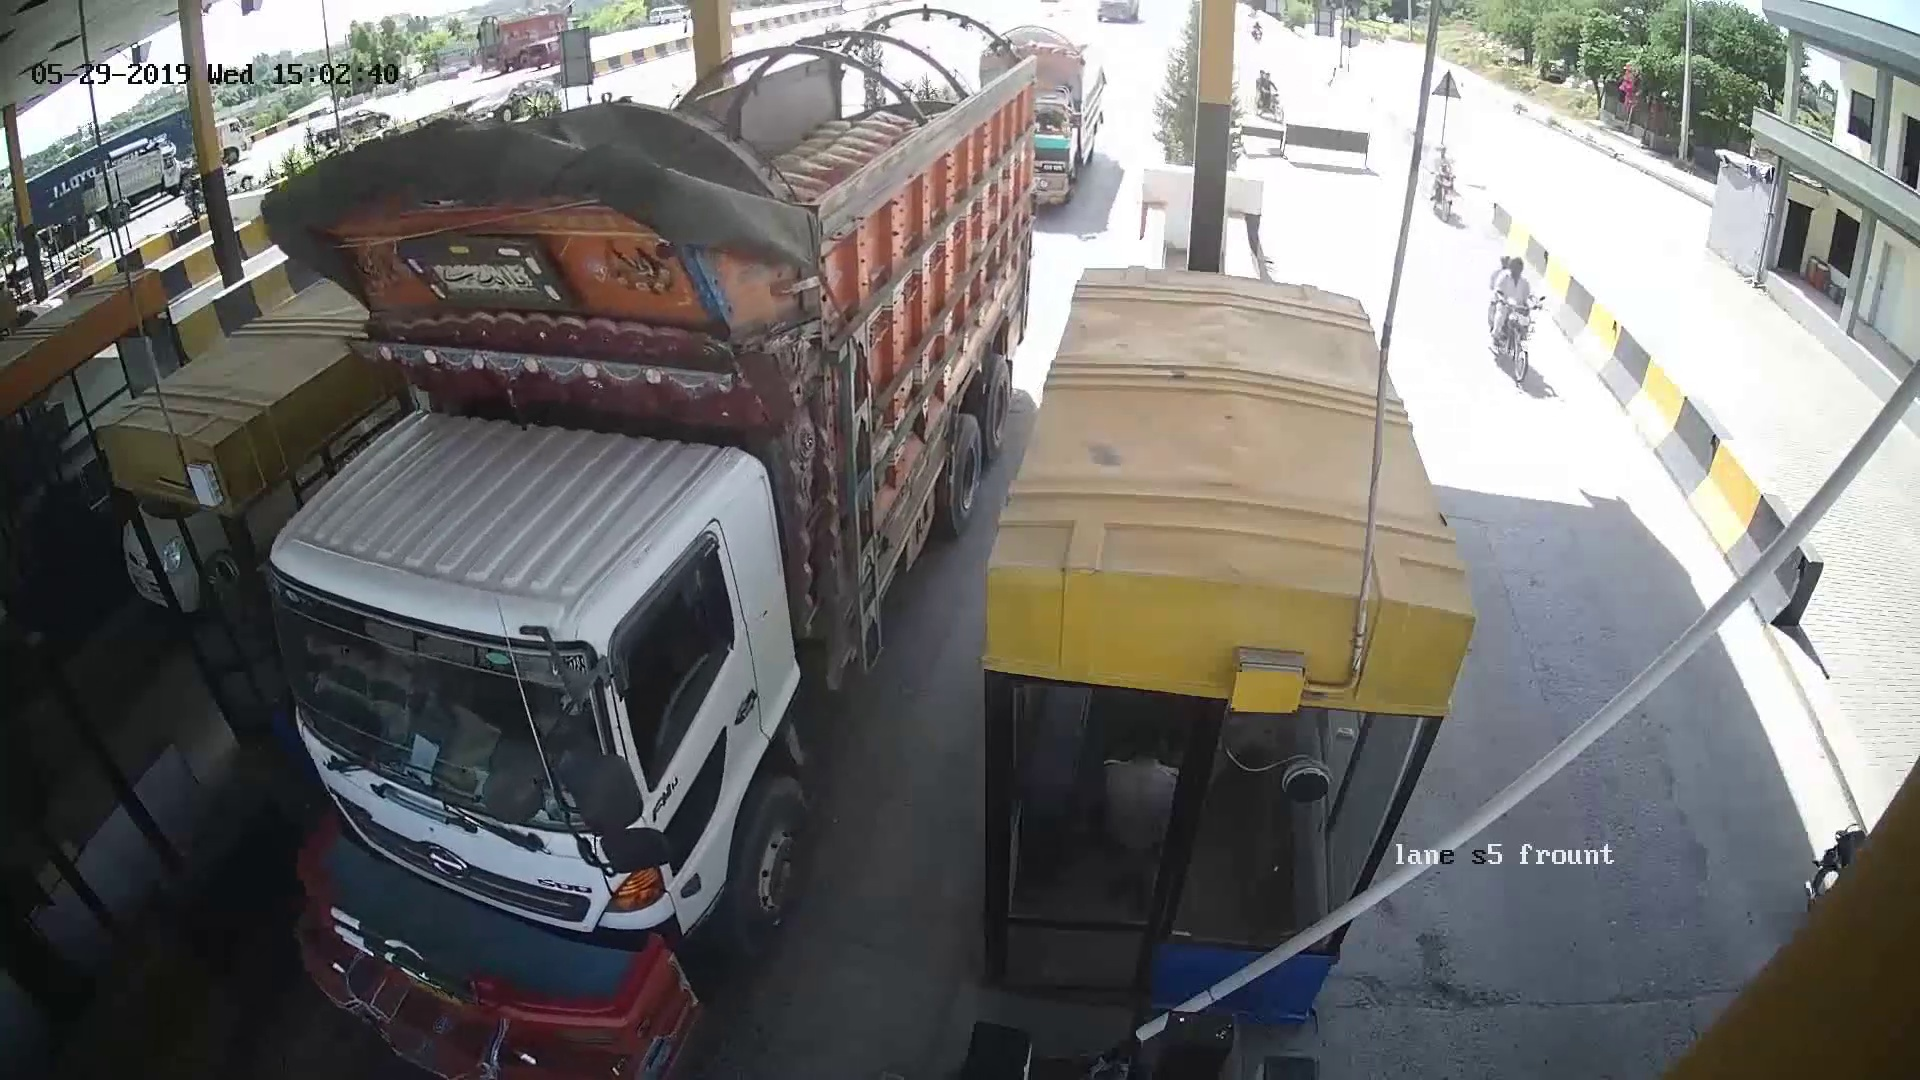truck: (290, 132, 993, 1035)
